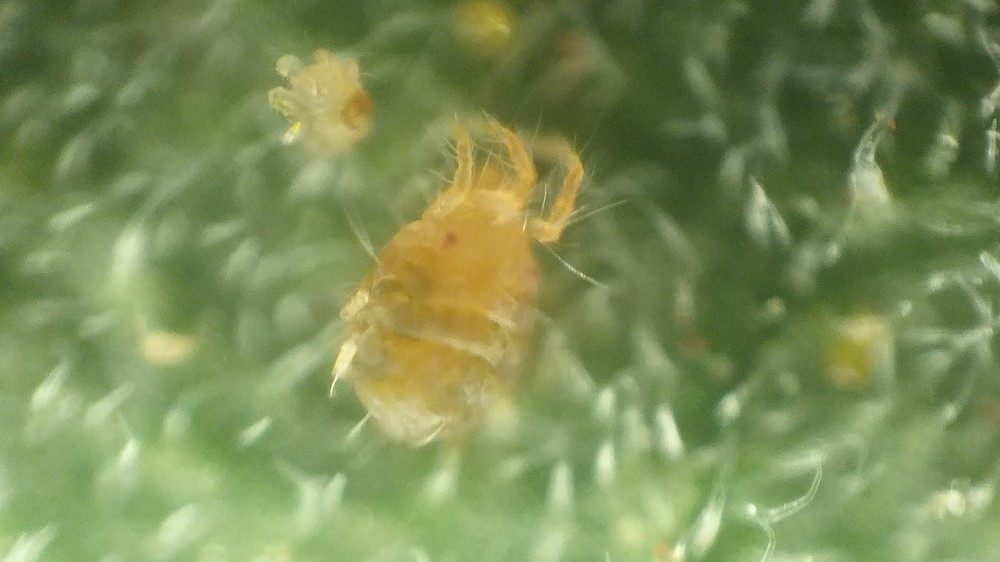Aracnido Rojo: (333, 103, 603, 470), (260, 43, 416, 165)
